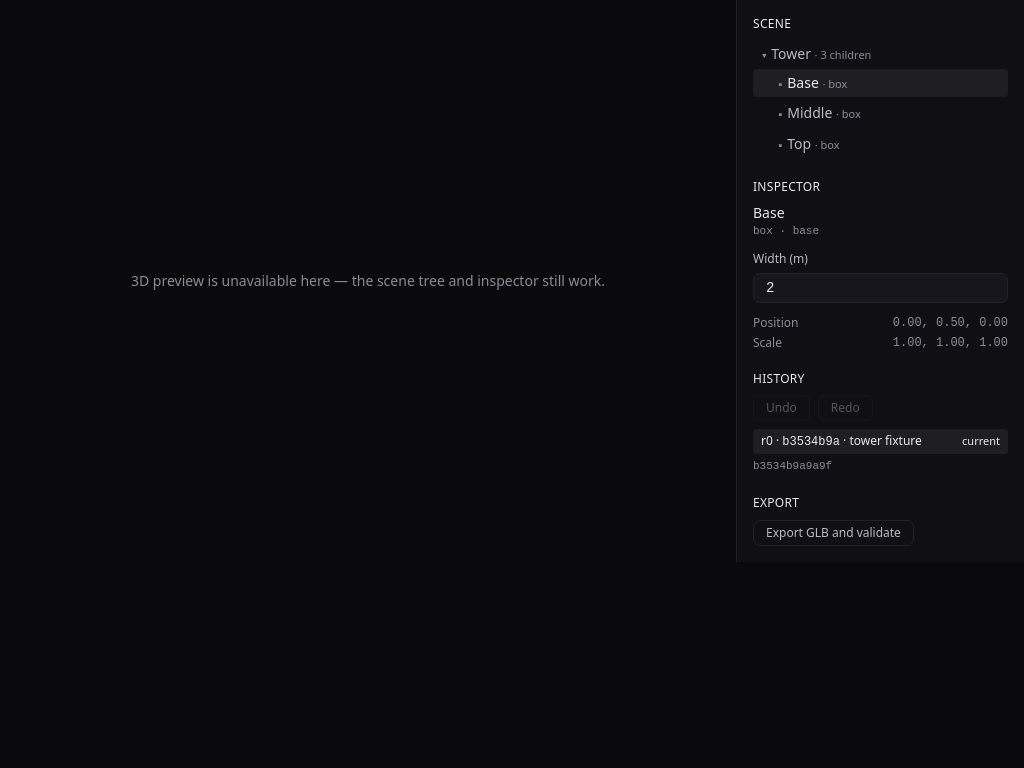
Test: ModelPane › edits the width through the inspector and records a revision
Replace the text in the field labelled "Width (m)" with "2.4" at (880, 288), box [753,273,1008,303]
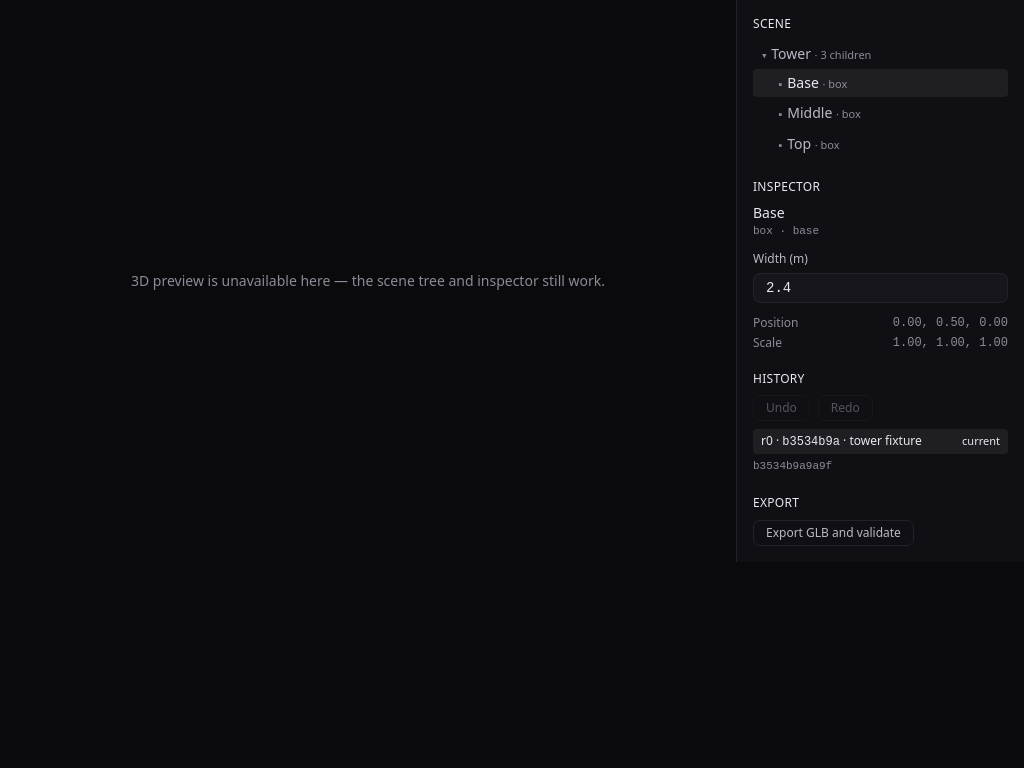
Leave the field labelled "Width (m)", box [753,273,1008,303]
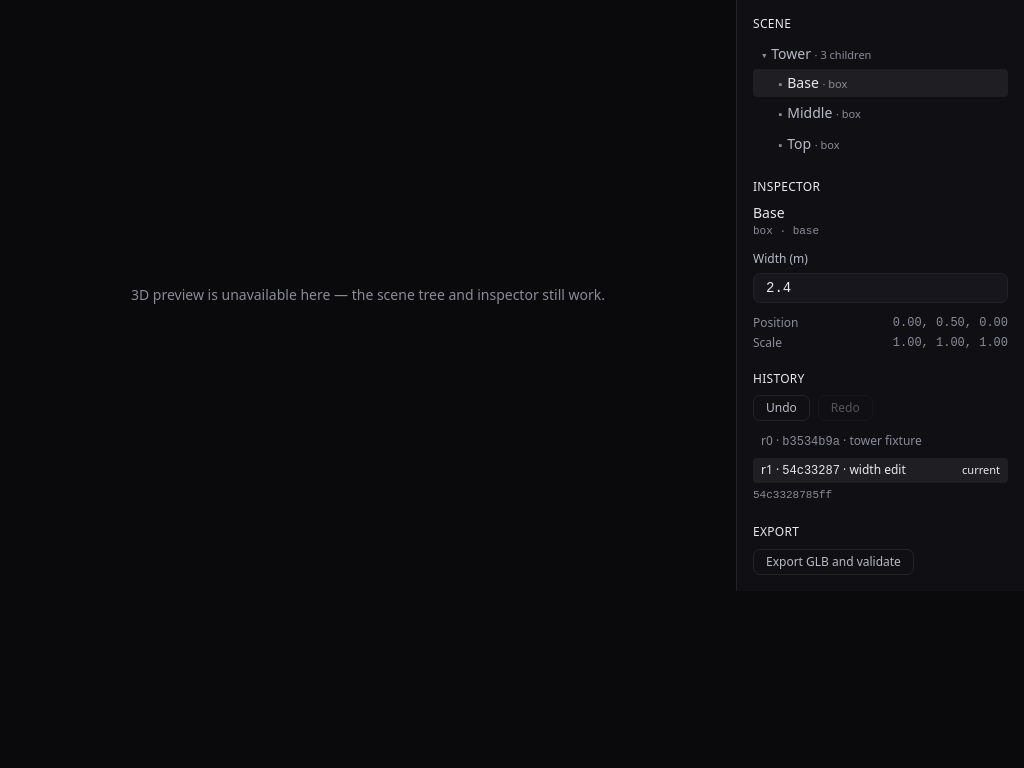
expect the text "b3534b9a9a9f" is gone: met
